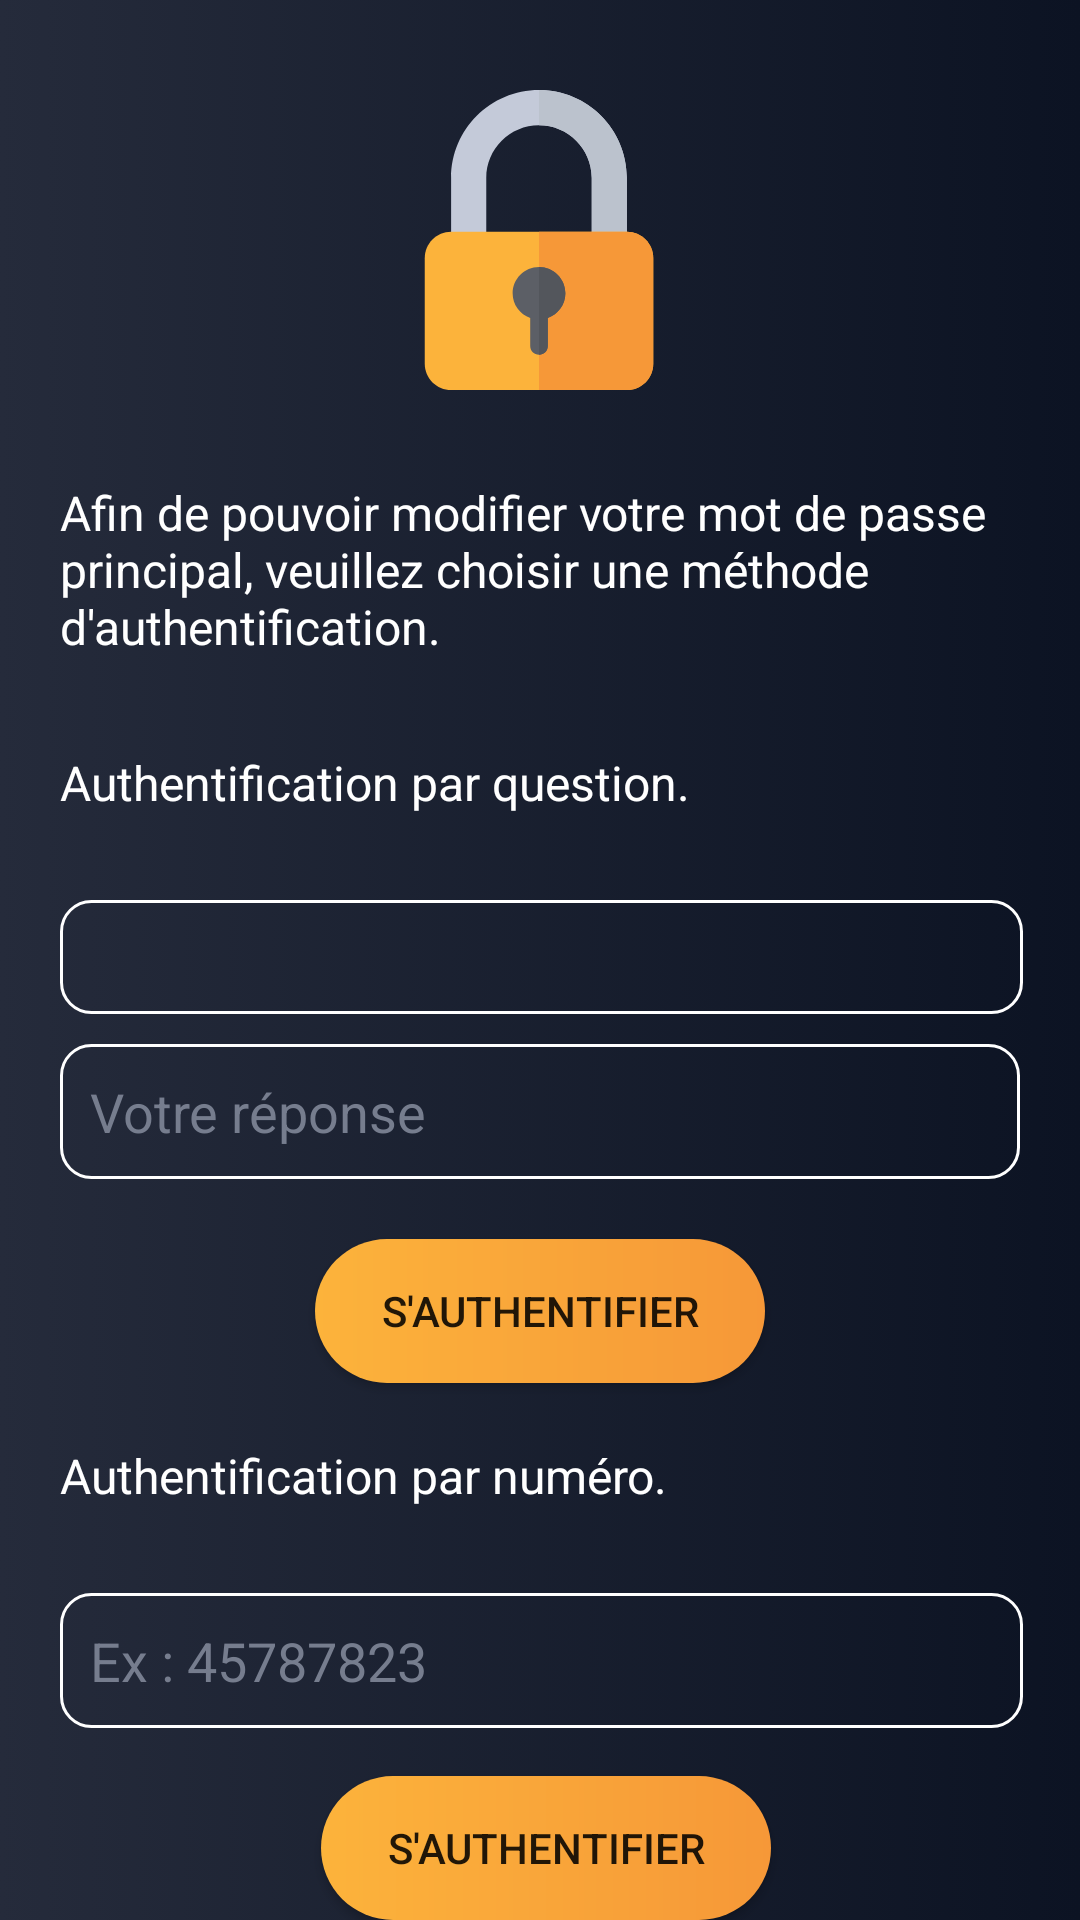

Screen size 1080×1920. Icon name, then its center in pixels as point (x, y):
padlock: point (539, 240)
